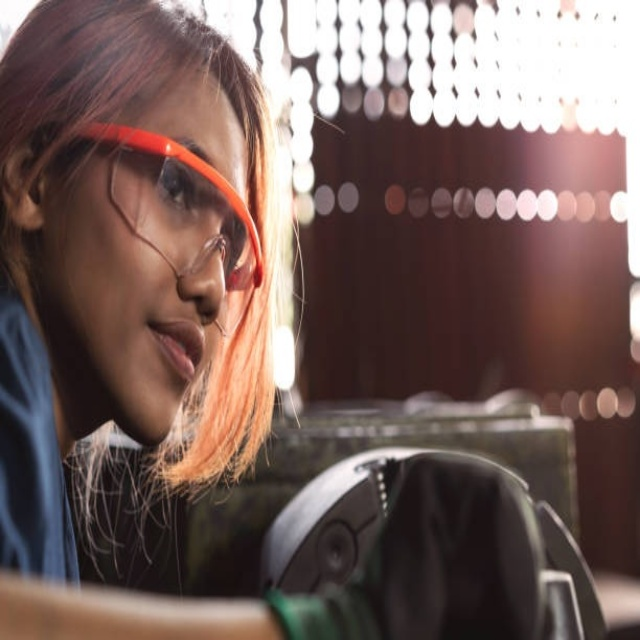Gafas: (68, 121, 266, 294)
Sin_mascara: (130, 317, 216, 442)
